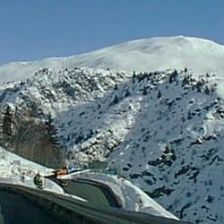neutral: (2, 11, 224, 223)
